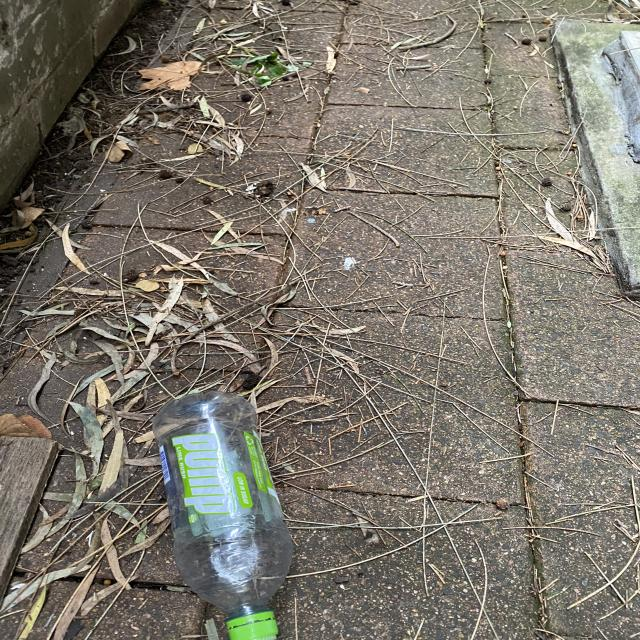bottle: (144, 382, 302, 640)
